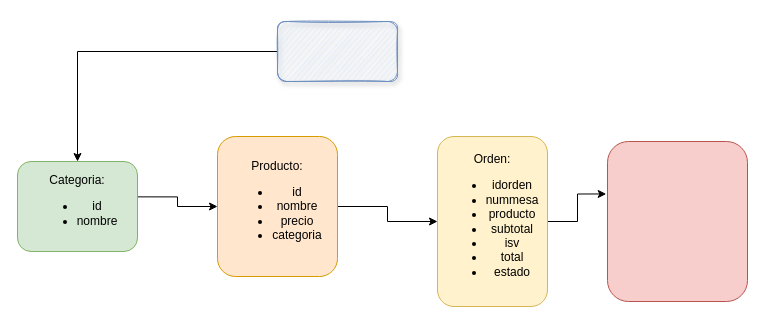
Some shapes in this 765 by 324 pixel diagram are drawn without their labels. Here are the shapes that lost their labels. From the top down, the centre of each, then its label:
At point 338,52: "App-RestBar".
At point 677,221: "Facturacion: idfactura idorden total metodopago".
